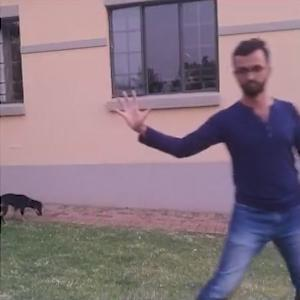follow_hand: (108, 82, 151, 128)
